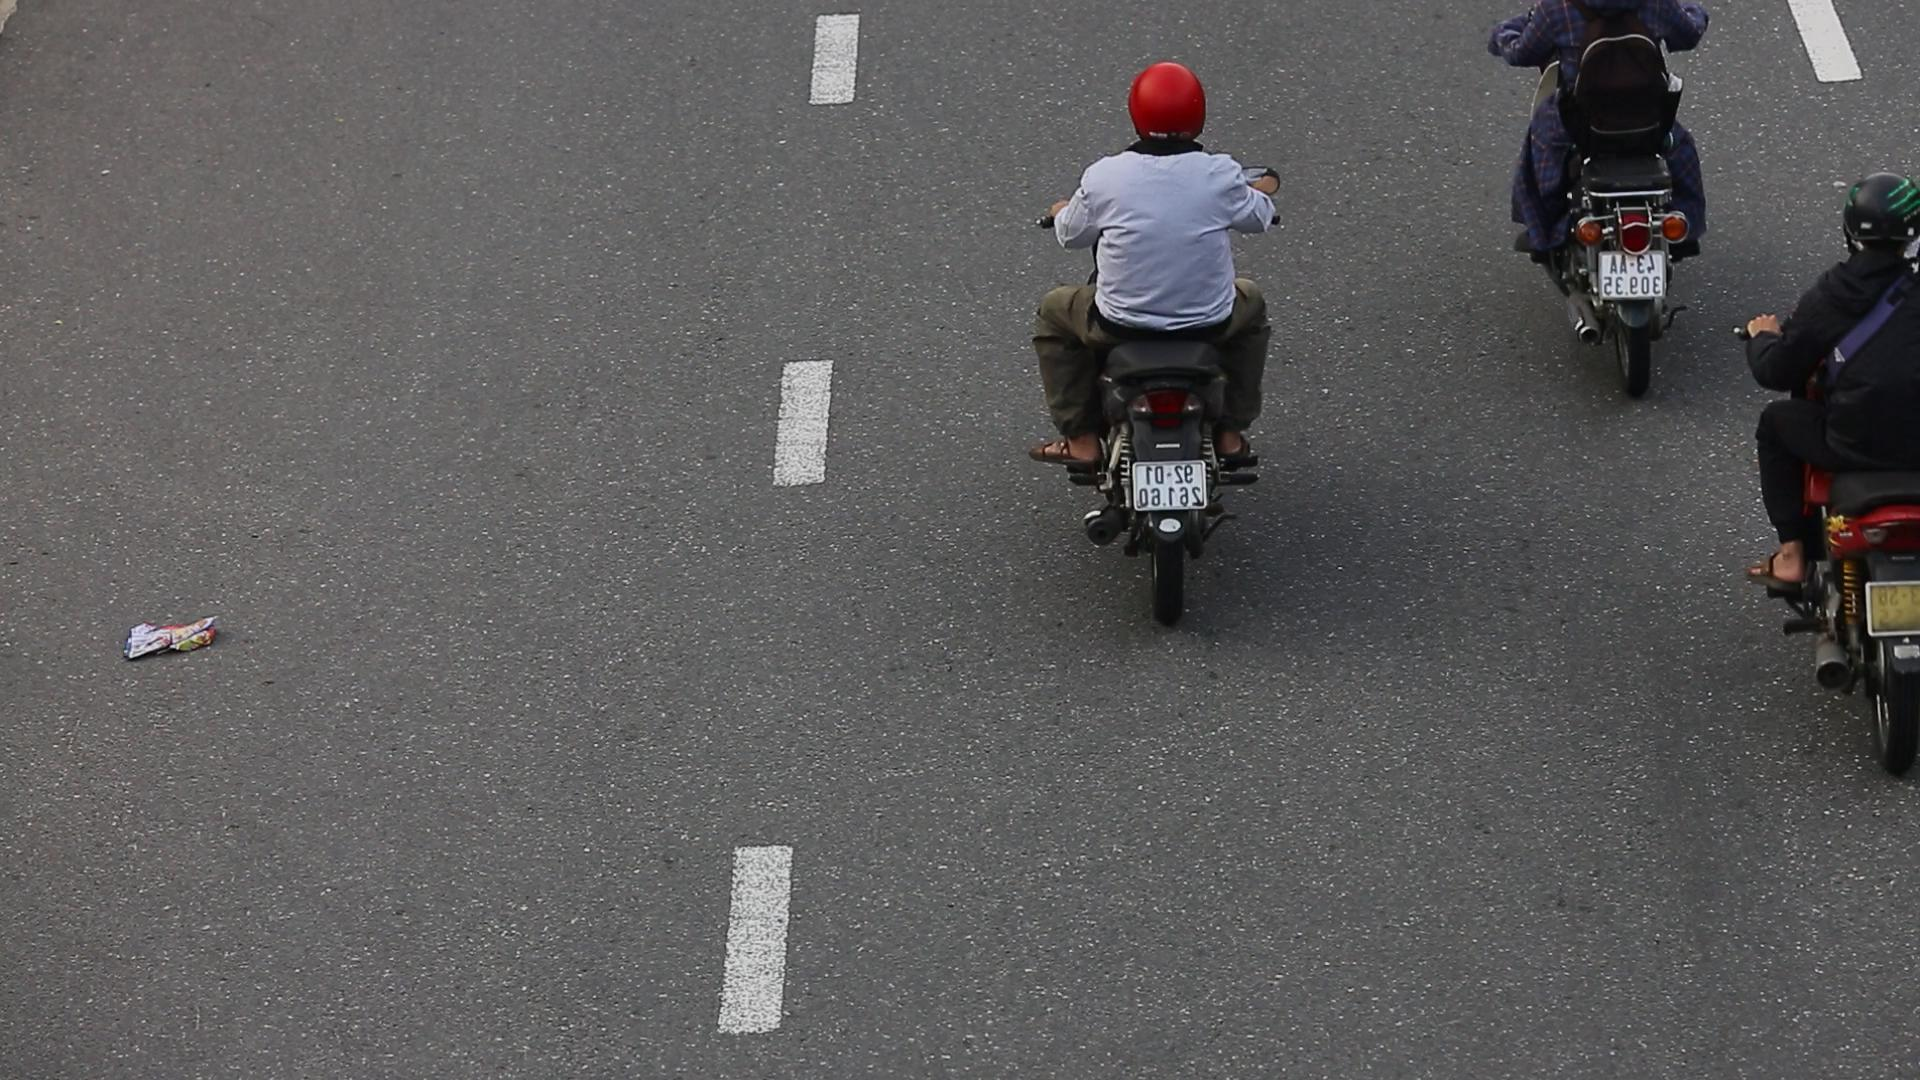motobike: (1019, 45, 1295, 630)
